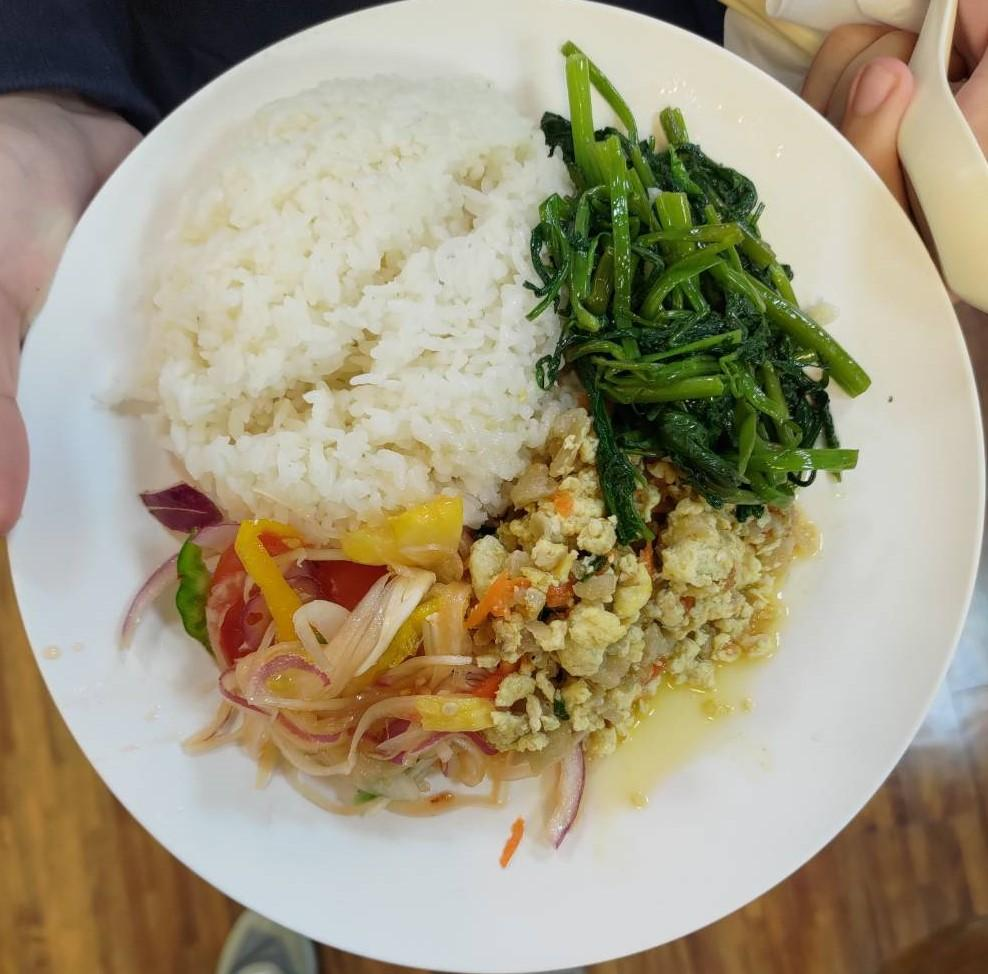big fried chicken leg: (12, 10, 988, 974)
big herbal chicken leg: (130, 70, 572, 530)
braised fish fillet: (532, 38, 863, 517), (116, 494, 500, 806), (481, 458, 778, 752)
